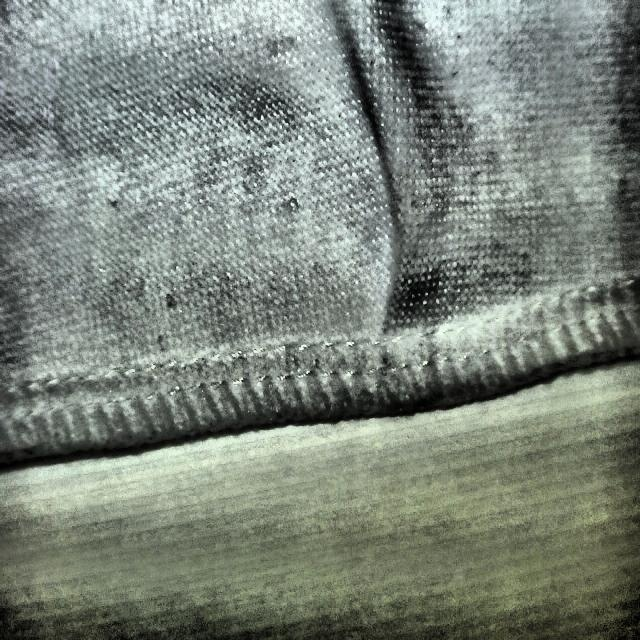seam: (302, 92, 505, 433)
